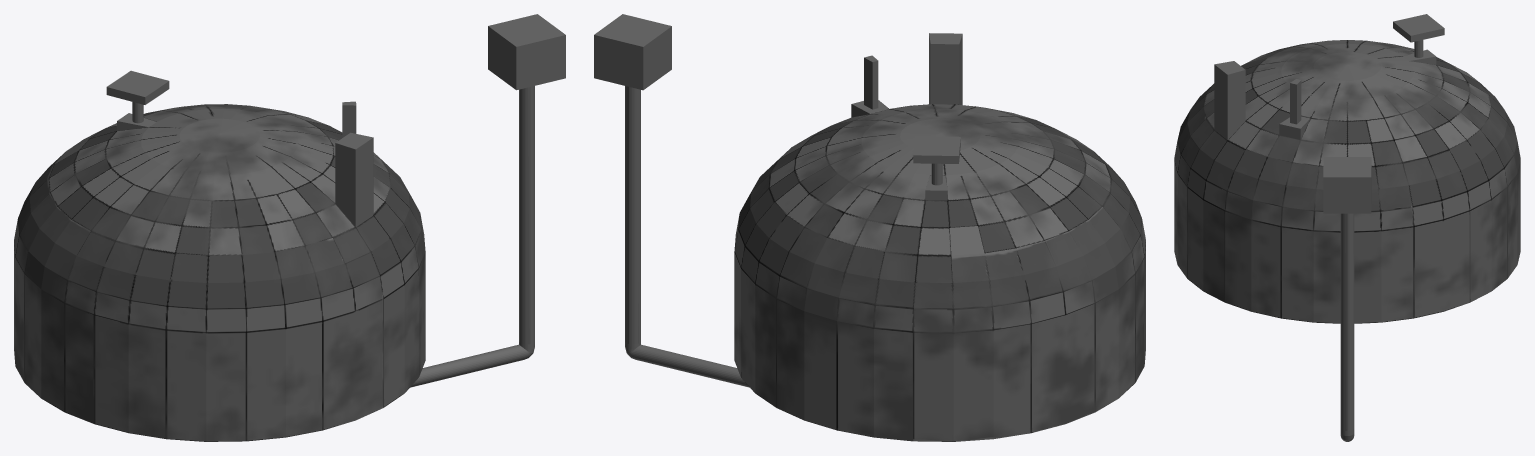
The model's file is tank_v2.c68fe913.glb.
3 renders of one model, left to right at view 1: azimuth 30°, elevation 25°; view 2: azimuth 150°, elevation 25°; view 3: azimuth 270°, elevation 25°, orthographic. The views are drawn at different scales.
Visible parts, largest first — view 1: Sphere; view 2: Sphere; view 3: Sphere.
Boxes of the visible parts, left/top/right/bottom form: Sphere: left=14, top=14, right=565, bottom=441; Sphere: left=594, top=14, right=1145, bottom=441; Sphere: left=1174, top=14, right=1520, bottom=441.
Bounding box in the file's own units: 2.86 × 1.75 × 2.
1 material, 1 textured.
